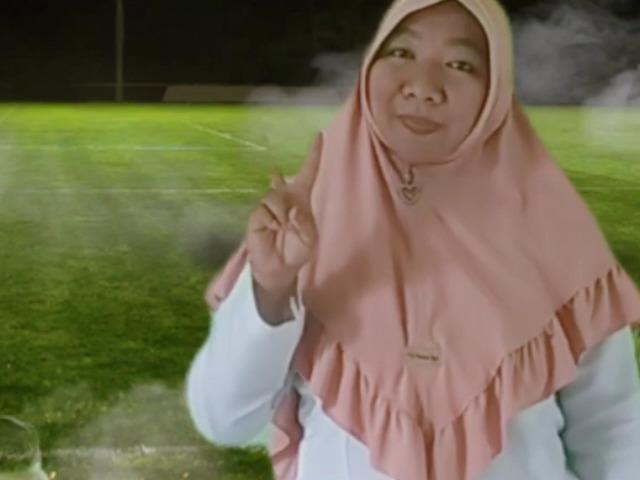V: (241, 122, 333, 284)
